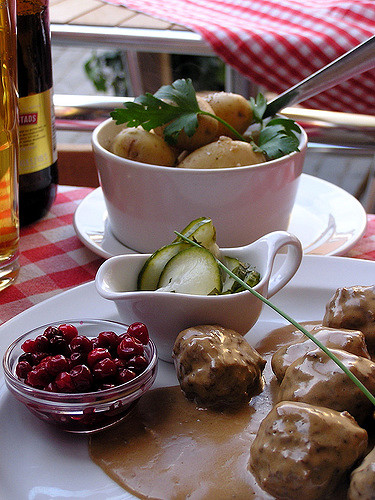boiled potatoes: (125, 92, 278, 163)
meatballs: (177, 309, 375, 490)
